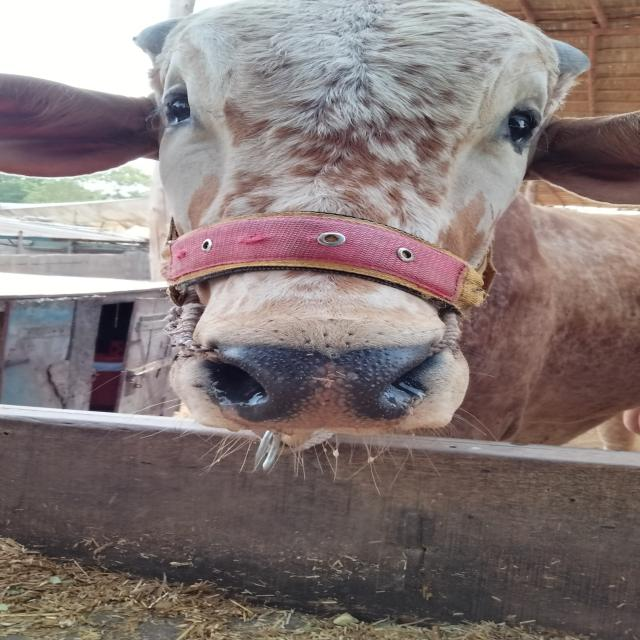muzzles: (190, 328, 452, 434)
